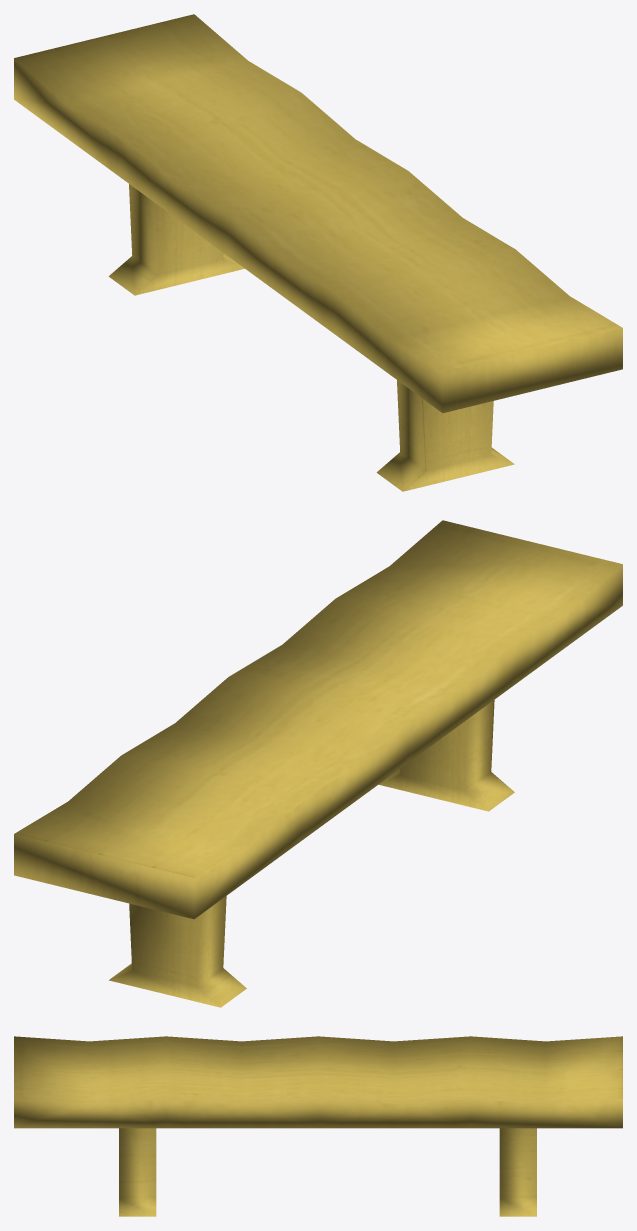
The model's file is banco terminal.fbx.
The picture shows the model from 3 angles, top to bottom: view 1: azimuth 30°, elevation 25°; view 2: azimuth 150°, elevation 25°; view 3: azimuth 270°, elevation 25°; orthographic projection. The views are drawn at different scales.
Visible parts, largest first — view 1: Cube.002, Cube.001; view 2: Cube.002, Cube.001; view 3: Cube.002, Cube.001.
Boxes of the visible parts, left/top/right/bottom form: Cube.002: left=14, top=14, right=622, bottom=413; Cube.001: left=108, top=184, right=514, bottom=491; Cube.002: left=14, top=520, right=622, bottom=919; Cube.001: left=109, top=700, right=514, bottom=1007; Cube.002: left=14, top=1036, right=622, bottom=1128; Cube.001: left=119, top=1128, right=536, bottom=1216.
Bounding box in the file's own units: 0.5399 × 0.5216 × 2.22.
